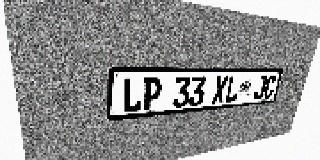3: (173, 77, 192, 108), (188, 76, 207, 106)
C: (262, 75, 277, 99)
J: (253, 75, 268, 100)
L: (122, 77, 143, 113), (224, 76, 241, 103)
P: (142, 77, 162, 111)
X: (212, 76, 229, 104)
